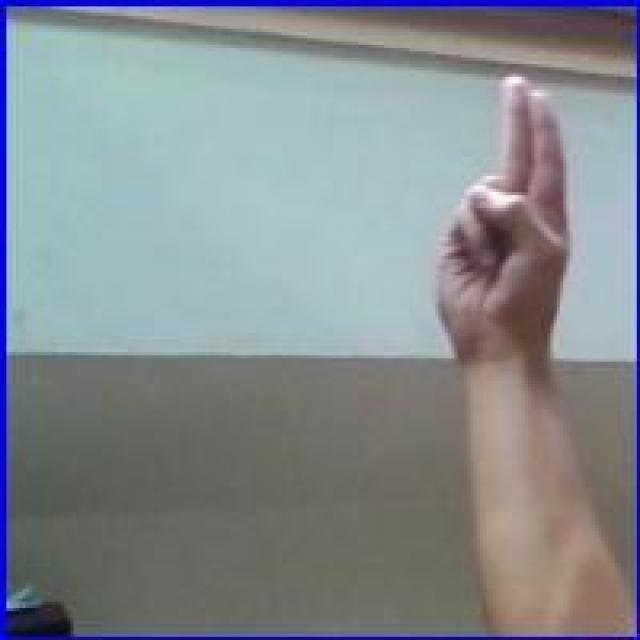U: (426, 69, 579, 363)
